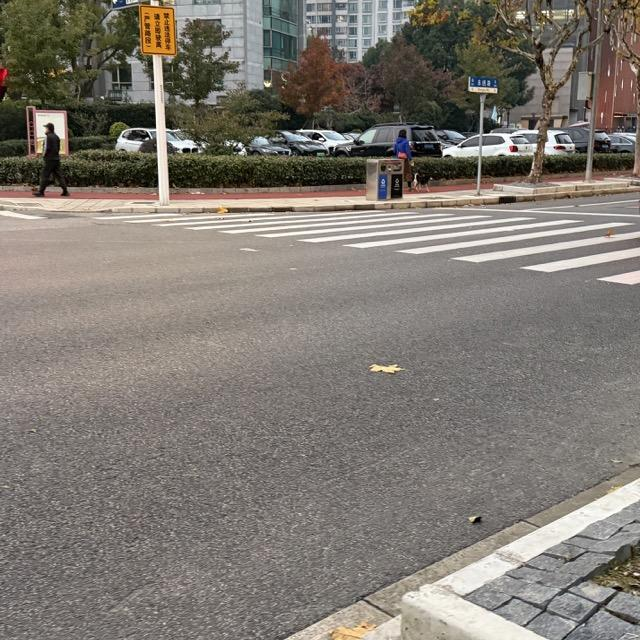curb: (401, 479, 639, 639), (88, 186, 639, 214), (169, 184, 365, 194), (494, 184, 573, 195), (68, 186, 159, 193), (0, 203, 44, 215), (434, 178, 476, 185), (481, 176, 527, 182), (1, 184, 37, 190), (47, 186, 61, 192)
